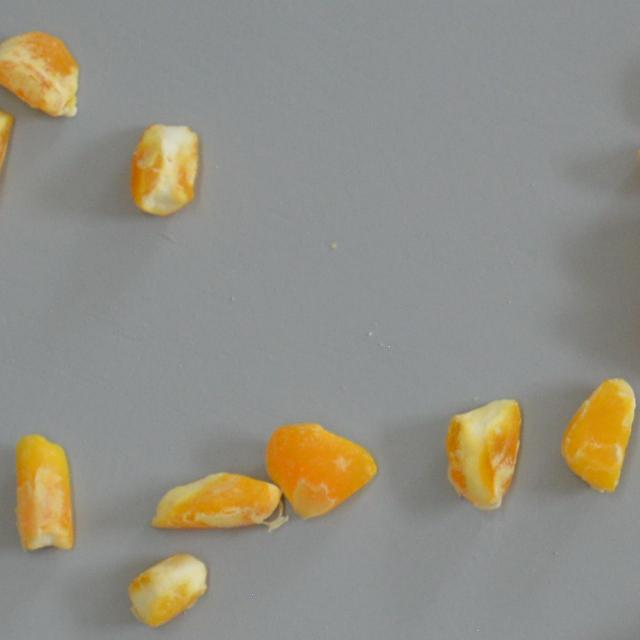no_desgerminado: (0, 28, 92, 125)
pelicula: (261, 418, 387, 528), (142, 455, 280, 538), (7, 432, 90, 556), (445, 395, 528, 518), (559, 374, 640, 499), (124, 122, 206, 220), (126, 542, 210, 626), (0, 100, 18, 217)
